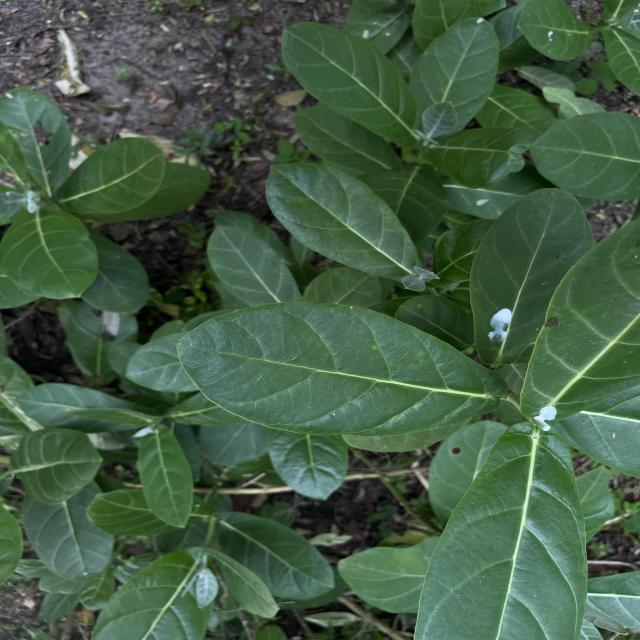Calotropis gigantea: (172, 300, 510, 438), (410, 425, 590, 640), (466, 184, 596, 367), (263, 161, 422, 286), (278, 20, 422, 139), (410, 16, 500, 130), (0, 201, 100, 301), (53, 136, 167, 216), (7, 426, 105, 504), (206, 225, 300, 303), (136, 424, 196, 530)
